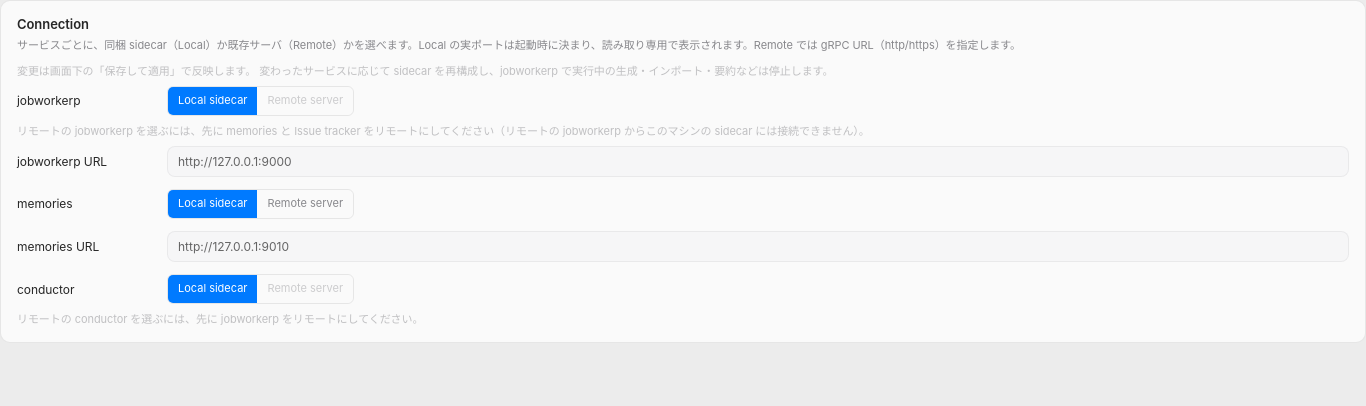
Test: ConnectionCard › tests the edited targets without saving them
Expected: the field showing "http://127.0.0.1:9010" next to "memories URL" is shown, [167, 231, 1349, 262]
Click the 2nd button "Remote server": (305, 204) [258, 190, 353, 218]
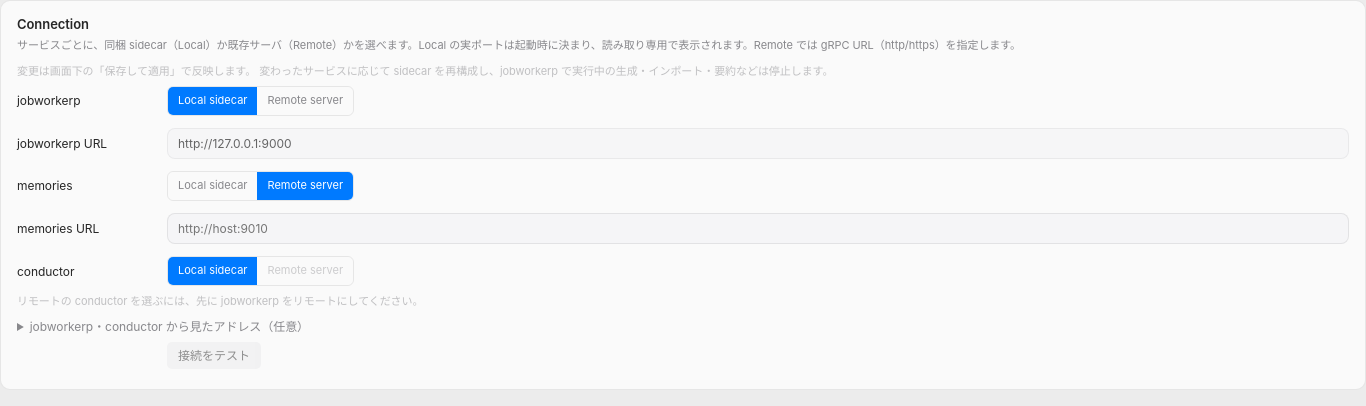
In the field named "memories URL": (758, 229) [167, 213, 1349, 244], type "http://m:9010"
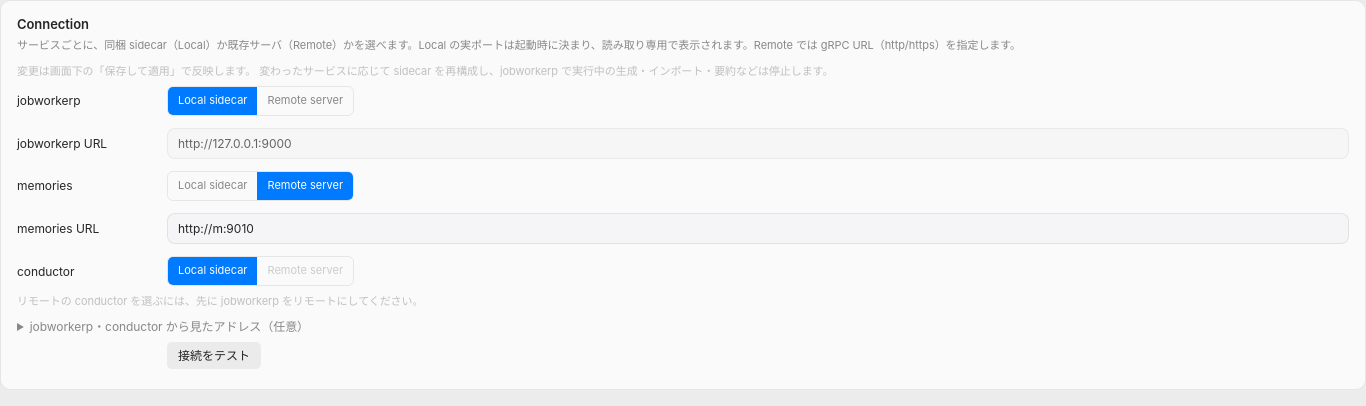
Click the button "接続をテスト": (214, 355) [167, 342, 261, 369]
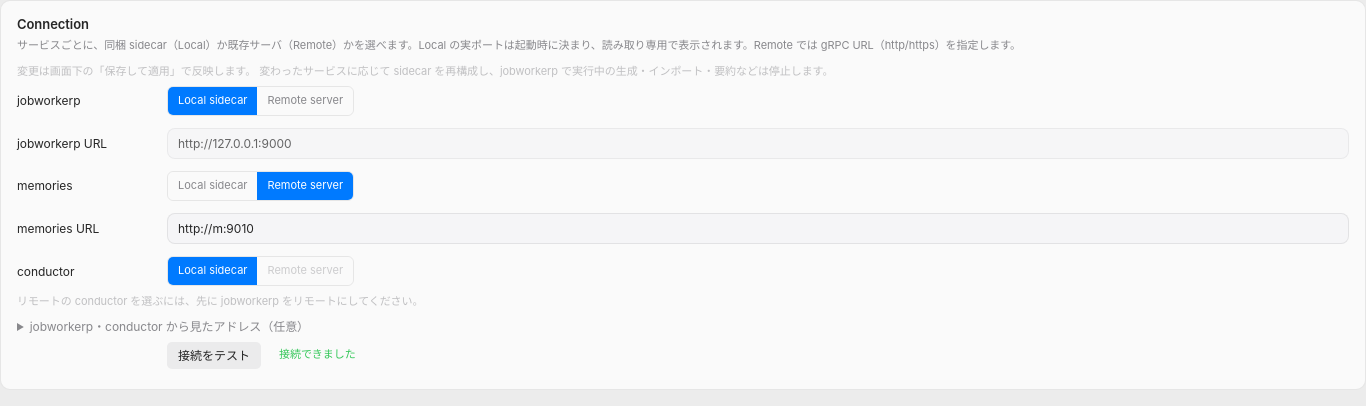
Now the text "接続できました" is shown, box [279, 347, 356, 363]
